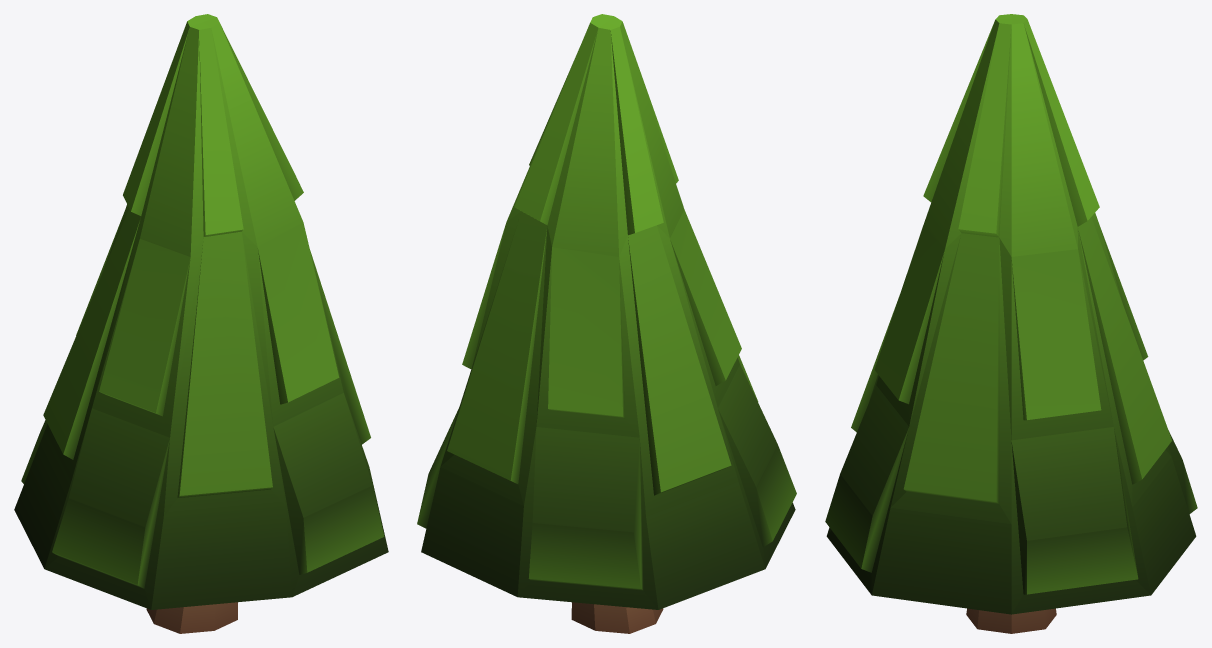
Rendered from tree_low_poly.glb.
3 views of the same model, side by side, from view 1: azimuth 30°, elevation 25°; view 2: azimuth 150°, elevation 25°; view 3: azimuth 270°, elevation 25° (orthographic).
Parts seen in each view (by area): view 1: Cube.002_0; view 2: Cube.002_0; view 3: Cube.002_0.
Part boxes in pixels (x1,y1,x2,y2): Cube.002_0: [14, 14, 388, 633]; Cube.002_0: [417, 14, 796, 633]; Cube.002_0: [825, 14, 1197, 633].
Size of the model in its own units: 5.11 by 9.13 by 5.11.
1 material, 1 textured.
